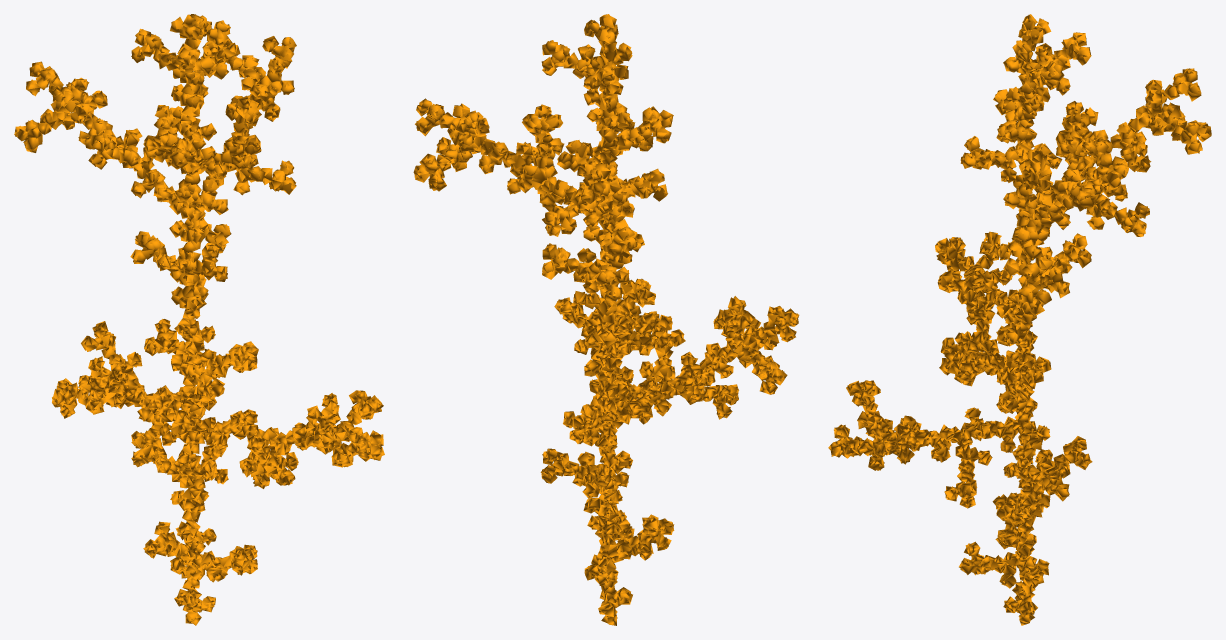
The model's file is orange_tree.gltf.
The picture shows the model from 3 angles, left to right: view 1: azimuth 30°, elevation 25°; view 2: azimuth 150°, elevation 25°; view 3: azimuth 270°, elevation 25°; orthographic projection.
Visible parts, largest first — view 1: OptimalLeaf; view 2: OptimalLeaf; view 3: OptimalLeaf.
Boxes of the visible parts, x1,y1,x2,y2 form: OptimalLeaf: (14, 14, 384, 625); OptimalLeaf: (413, 14, 799, 625); OptimalLeaf: (828, 14, 1211, 625).
Size of the model in its own units: 2.81 by 5.37 by 3.05.
